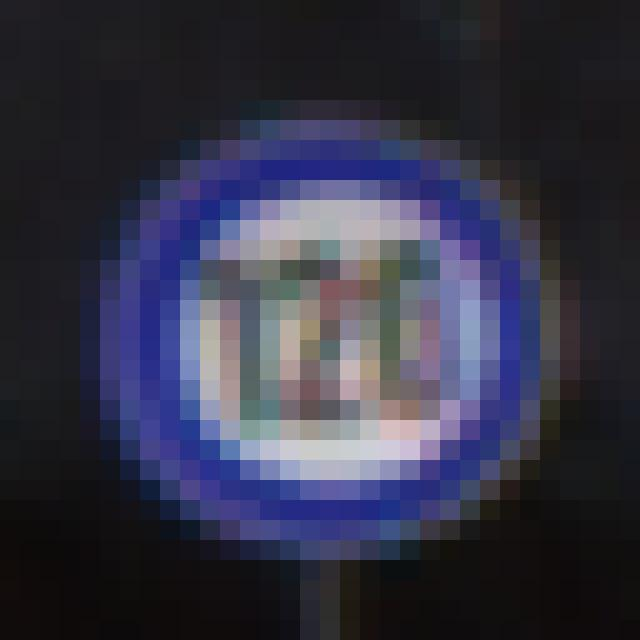SPEED LIMIT 120: (90, 119, 562, 548)
